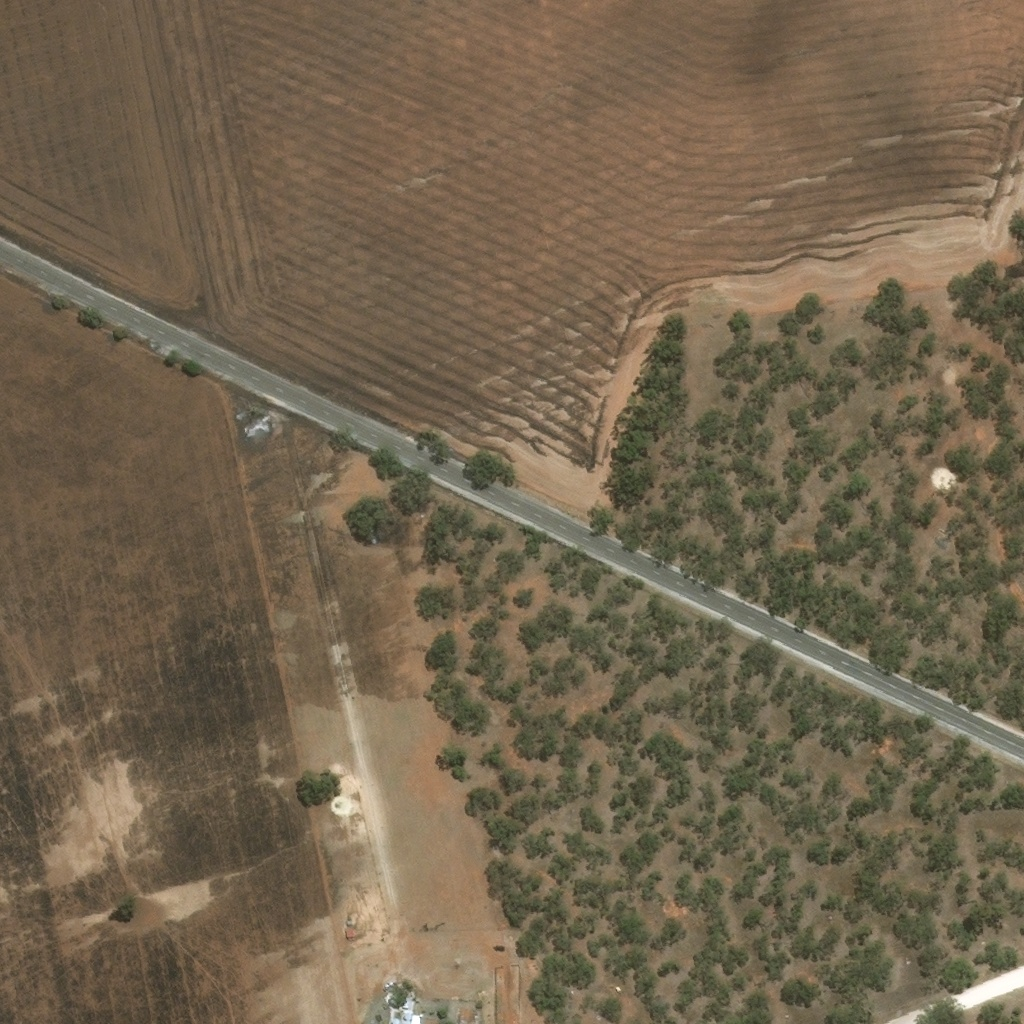4 un-classified: (388, 1008, 421, 1023)
